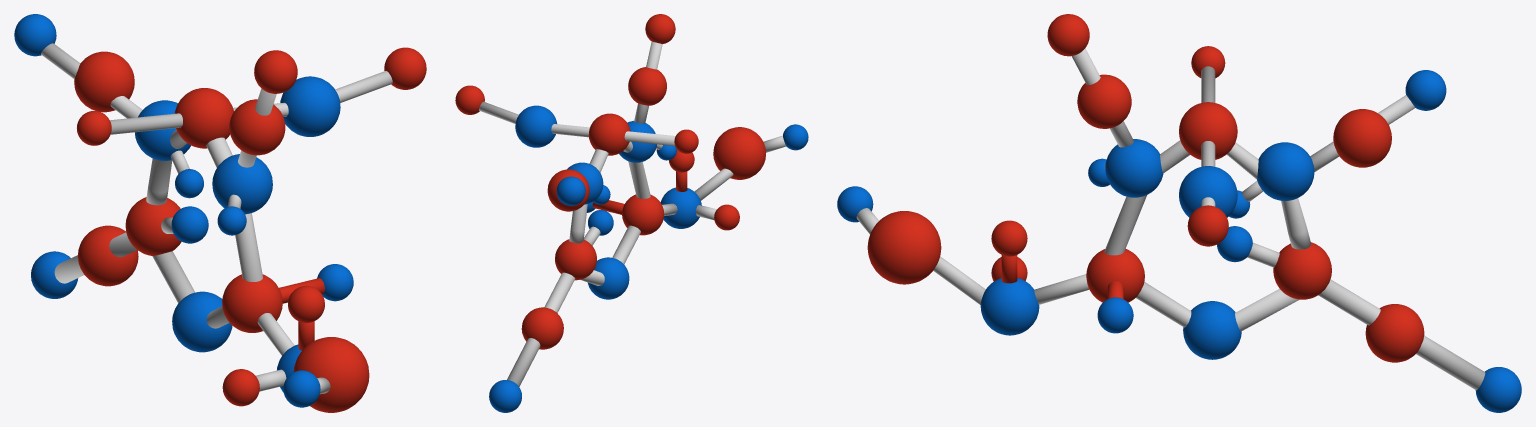
Rendered from glucose.fbx.
3 renders of one model, left to right at view 1: azimuth 30°, elevation 25°; view 2: azimuth 150°, elevation 25°; view 3: azimuth 270°, elevation 25°, orthographic. The views are drawn at different scales.
Visible parts, largest first — view 1: Sphere.014; view 2: Sphere.014; view 3: Sphere.014.
Boxes of the visible parts, x1,y1,x2,y2 form: Sphere.014: (14,14,426,412); Sphere.014: (455,14,808,412); Sphere.014: (837,14,1521,412).
Size of the model in its own units: 737 by 832 by 1308.
